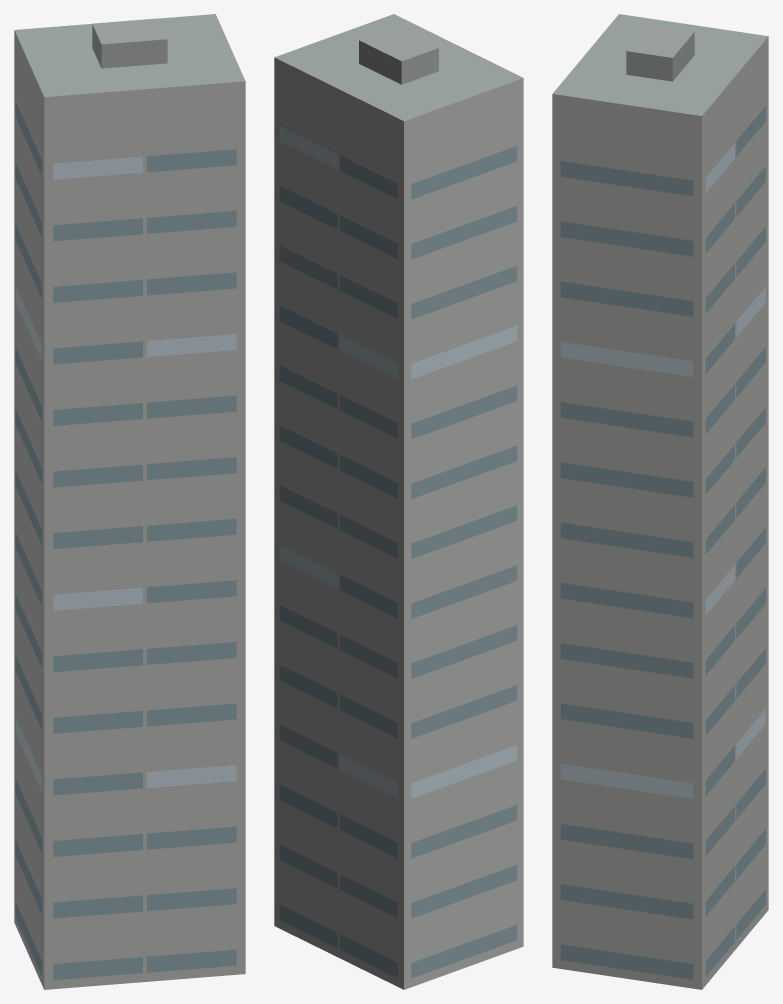
The model's file is fallback-dh-honor-hills-315.glb.
3 views of the same model, side by side, from view 1: azimuth 30°, elevation 25°; view 2: azimuth 150°, elevation 25°; view 3: azimuth 270°, elevation 25° (orthographic). The views are drawn at different scales.
Parts seen in each view (by area): view 1: fallback-dh-honor-hills-315; view 2: fallback-dh-honor-hills-315; view 3: fallback-dh-honor-hills-315.
Part boxes in pixels (bbox=[...]): fallback-dh-honor-hills-315: bbox=[14, 14, 245, 989]; fallback-dh-honor-hills-315: bbox=[274, 14, 523, 989]; fallback-dh-honor-hills-315: bbox=[552, 14, 768, 989].
Bounding box in the file's own units: 22.22 × 91 × 19.86.
